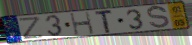3: (44, 14, 65, 39), (125, 8, 144, 31)
H: (68, 11, 96, 36)
S: (146, 5, 171, 31)
T: (94, 9, 114, 35)
Z: (17, 16, 46, 41)
